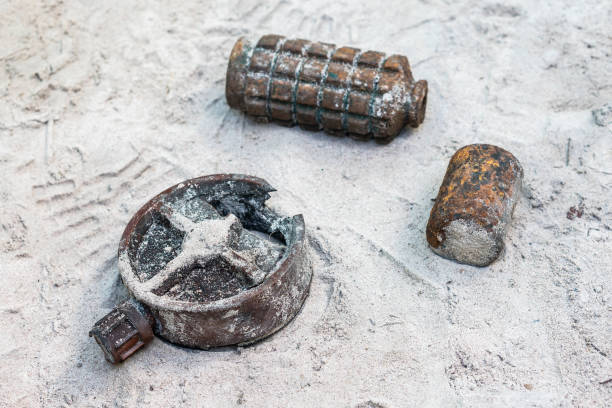e1: (225, 35, 428, 143)
